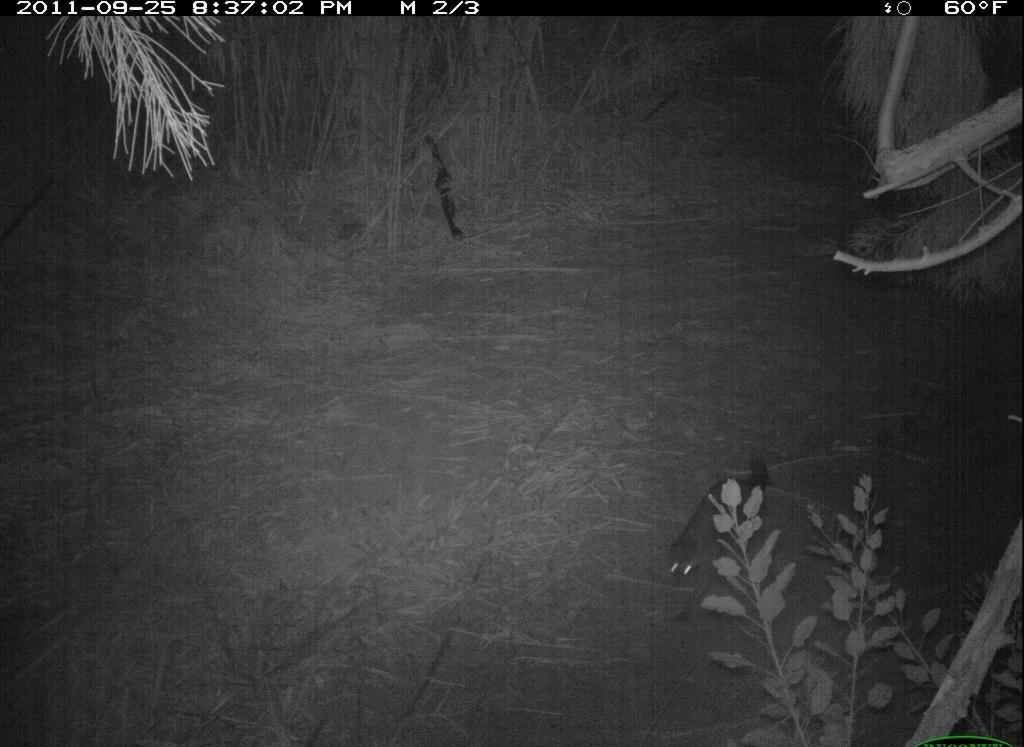raccoon: (662, 452, 781, 615)
